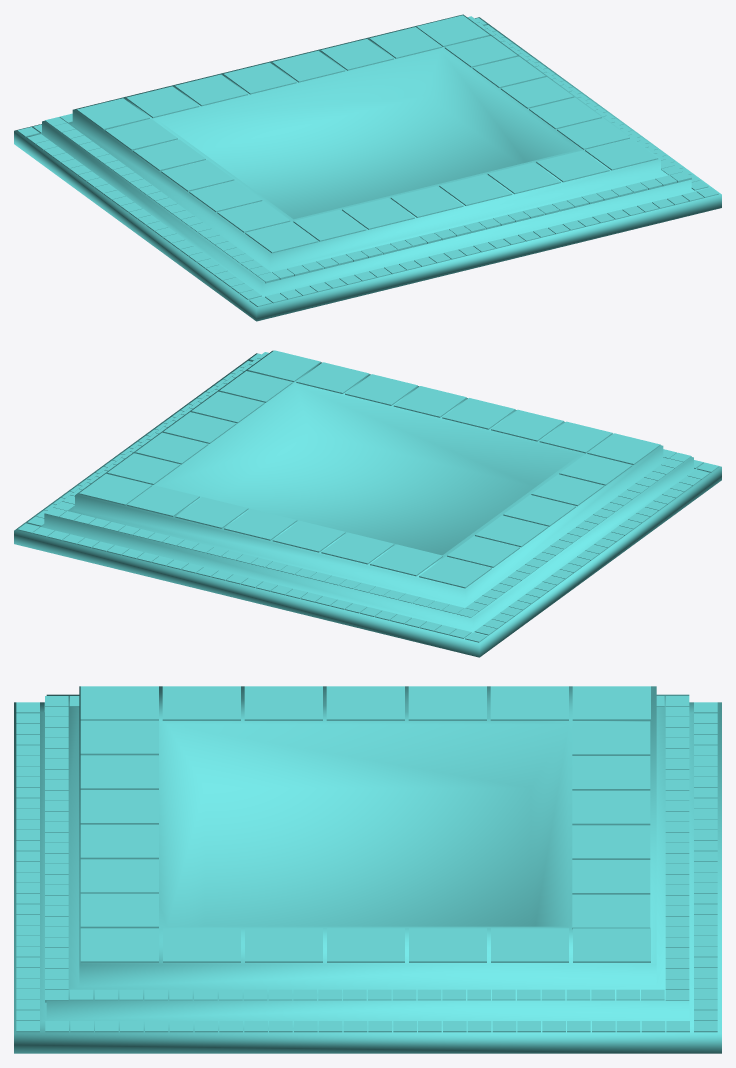
File: FountainBasin.fbx
3 views of the same model, one above another, from view 1: azimuth 30°, elevation 25°; view 2: azimuth 150°, elevation 25°; view 3: azimuth 270°, elevation 25° (orthographic). The views are drawn at different scales.
Visible parts, largest first — view 1: Cube.003; view 2: Cube.003; view 3: Cube.003.
Part boxes in pixels (bbox=[...]): Cube.003: bbox=[14, 14, 721, 321]; Cube.003: bbox=[14, 350, 721, 657]; Cube.003: bbox=[14, 686, 721, 1053].
Bounding box in the file's own units: 29.86 × 2.64 × 26.94.
